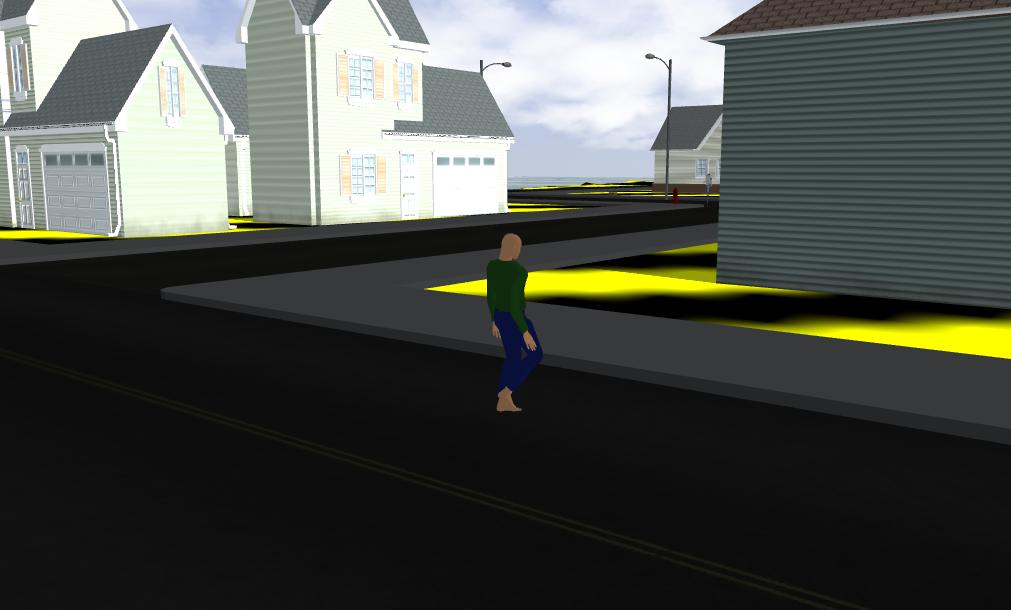human: (473, 230, 549, 417)
street light: (631, 49, 688, 203), (476, 55, 514, 82)
